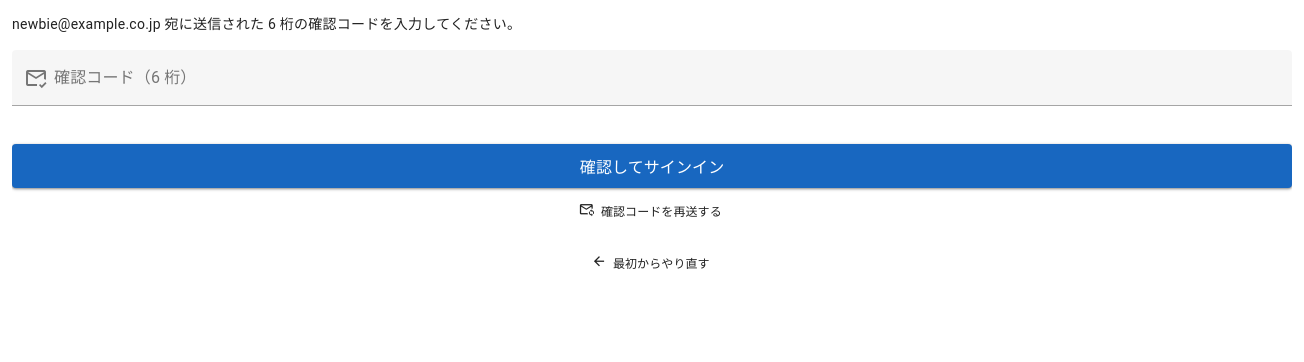
it: LoginView › 確認コード入力ステップから再送できる
This screenshot has width=1304, height=362.
Click the button with test id "resend-code" at coordinates (652, 210), box [570,196,734,224]
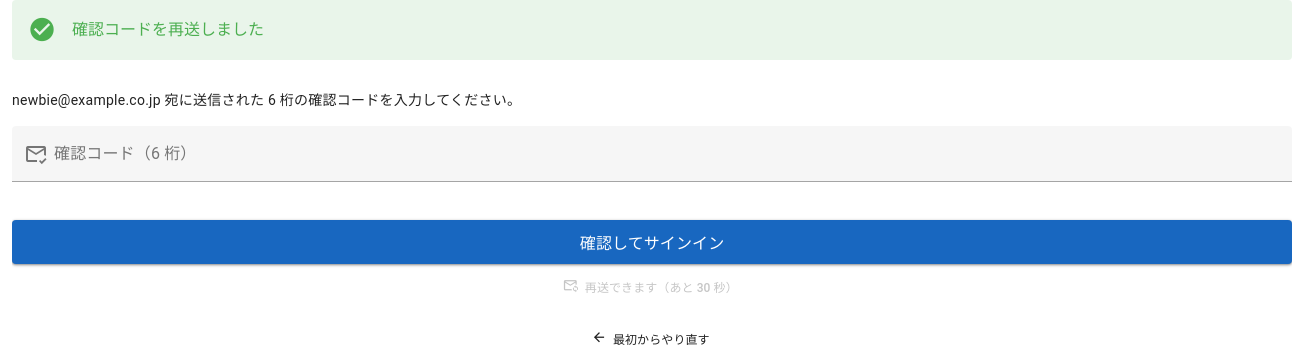
Expected: the text "確認コードを再送しました" is shown, [72,20,264,39]
